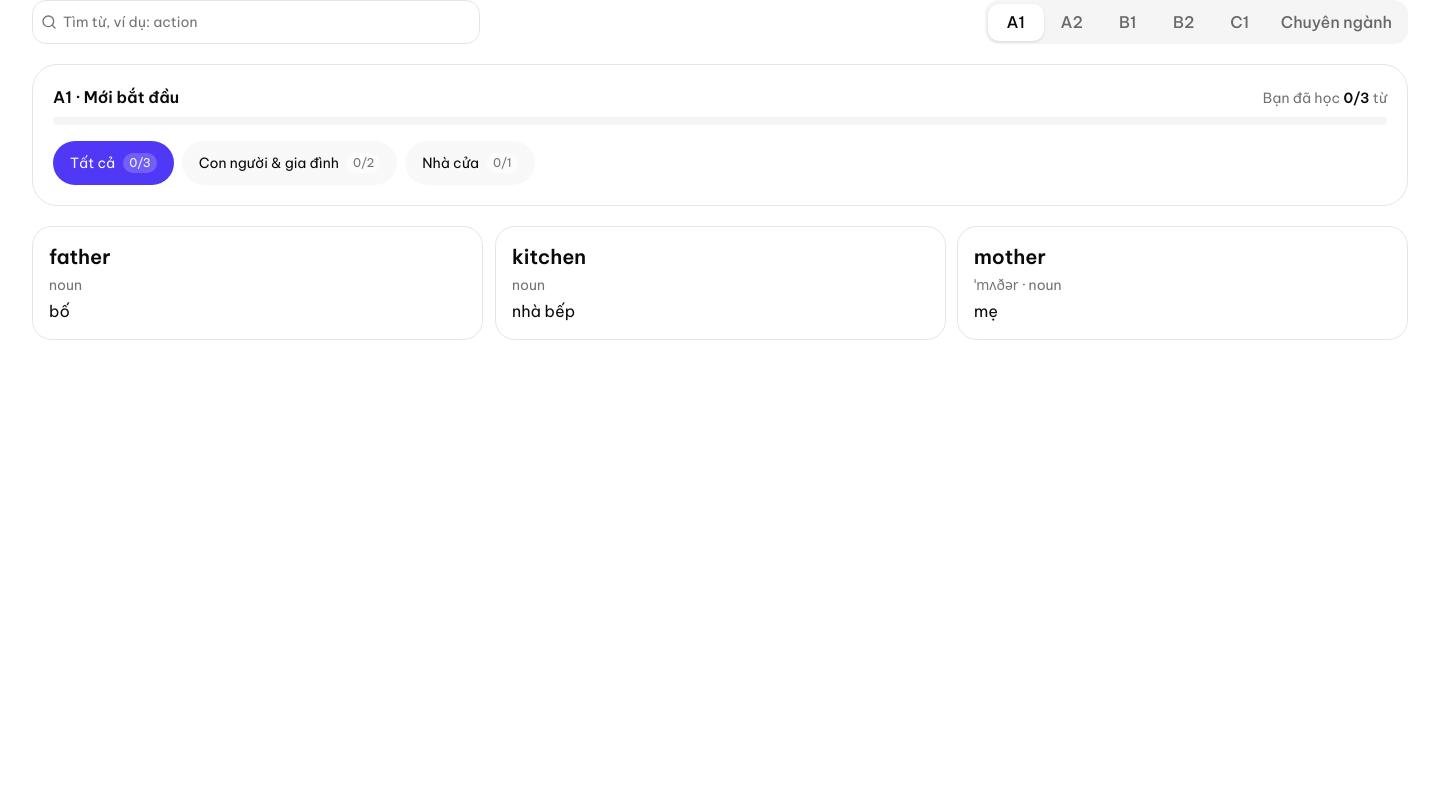
Test: VocabularyBrowser › search (feature 002) › finds a specialized word and shows its set in place of a level (012 AC-004, AC-005)
Expected: the element named "Danh sách từ" is shown, [32,226,1408,340]
Type "deplo" into the dropdown named "Tìm từ vựng ở mọi trình độ" at (264,22), box [57,6,471,38]
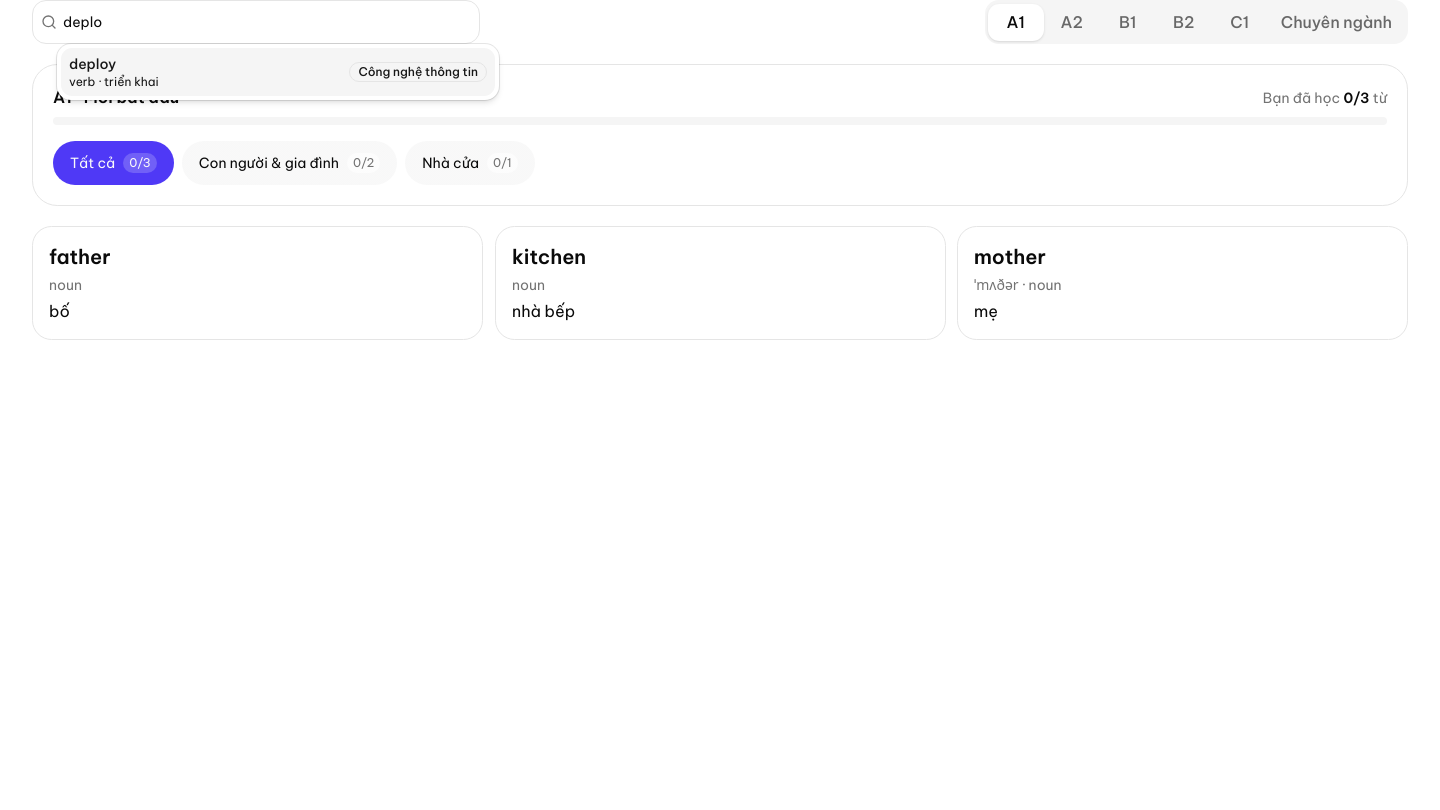
Result: the text "Công nghệ thông tin" is shown at [350,62,487,82]
Click the option "deploy verb · triển khai Công nghệ thông tin" at (93,64), box [61,48,495,96]
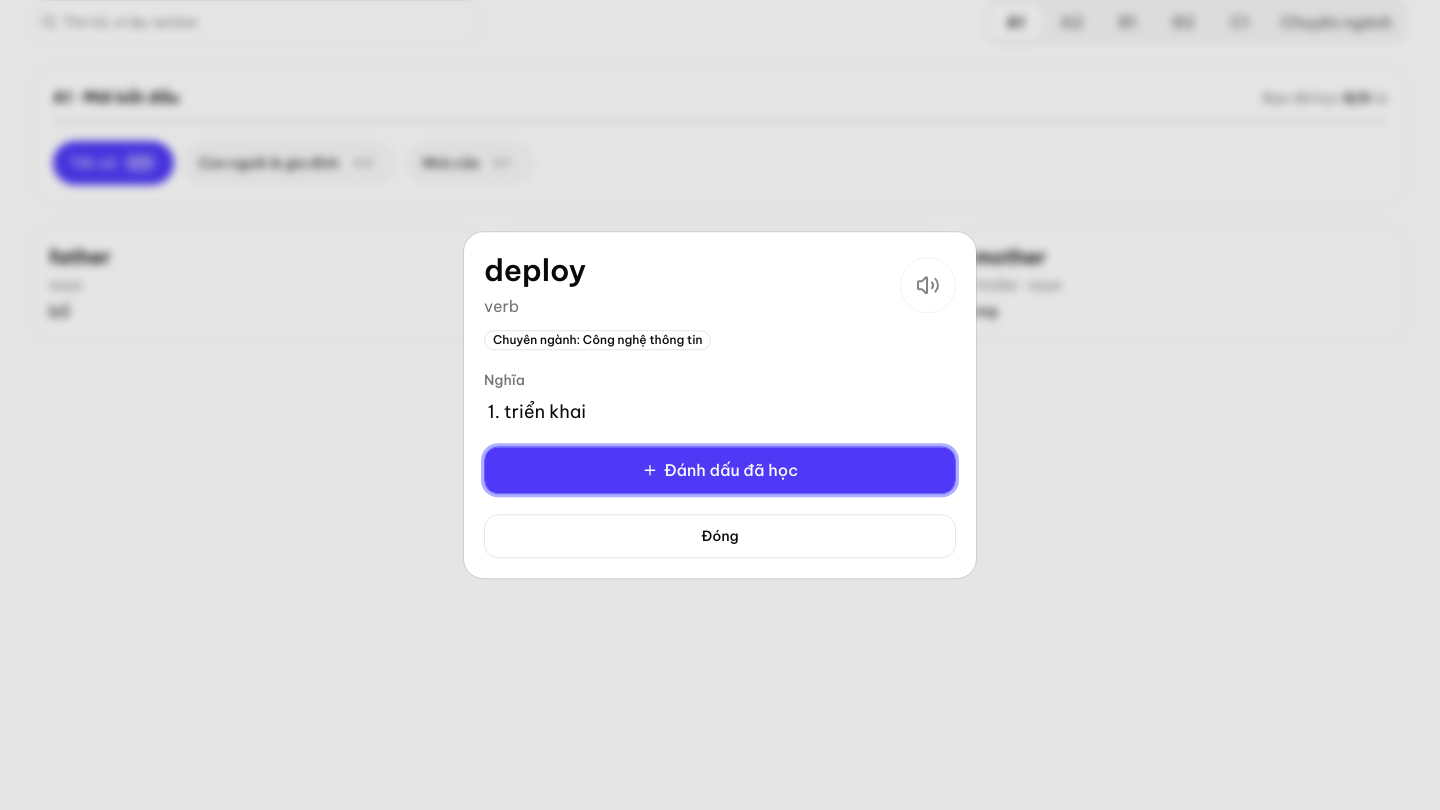
Result: the text "Chuyên ngành: Công nghệ thông tin" is shown at [484,330,711,350]
